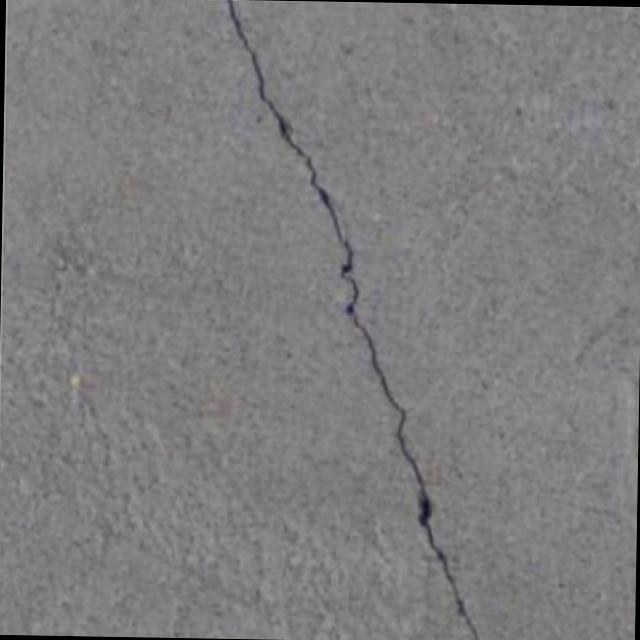crack: (214, 0, 380, 329), (349, 330, 494, 640)
